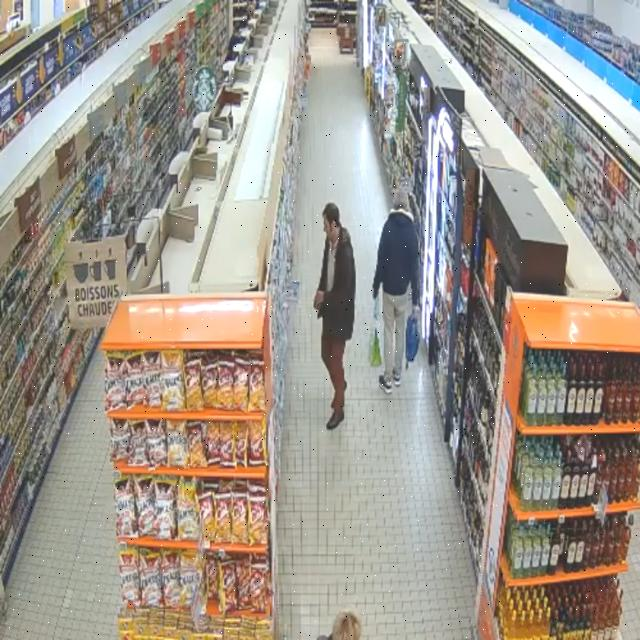bags: (370, 299, 382, 366), (406, 315, 420, 366)
hands: (314, 291, 324, 309), (412, 305, 420, 321), (373, 288, 379, 299)
person: (373, 190, 419, 393), (314, 203, 355, 430), (318, 611, 361, 639)
